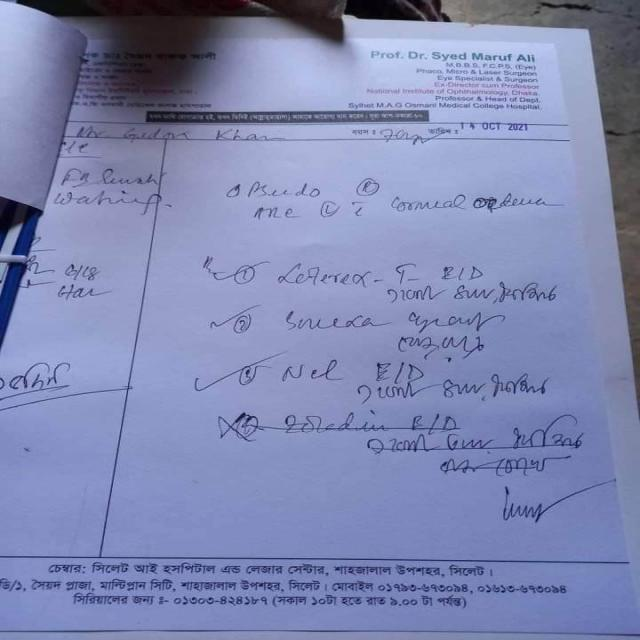LoterexT: (273, 253, 425, 292)
NCL: (275, 360, 348, 386)
